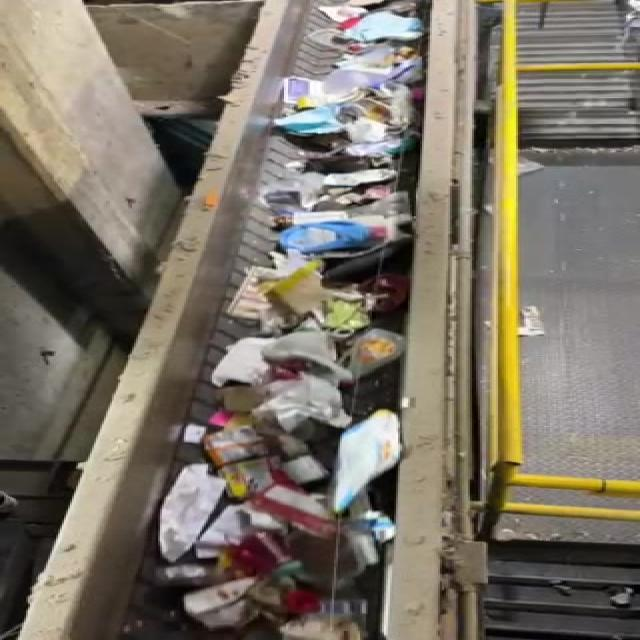hdpe: (313, 406, 423, 522)
paper: (162, 568, 300, 630), (152, 463, 231, 556)
pp: (193, 428, 286, 503)
